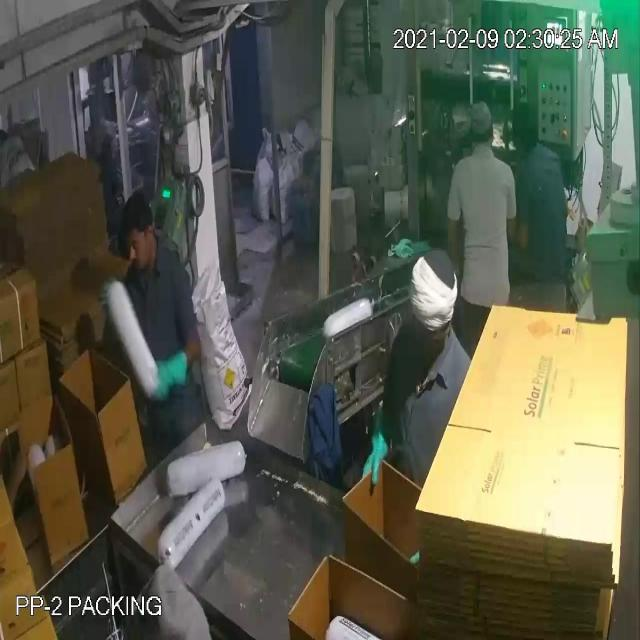Gloves: (48, 54, 381, 453)
